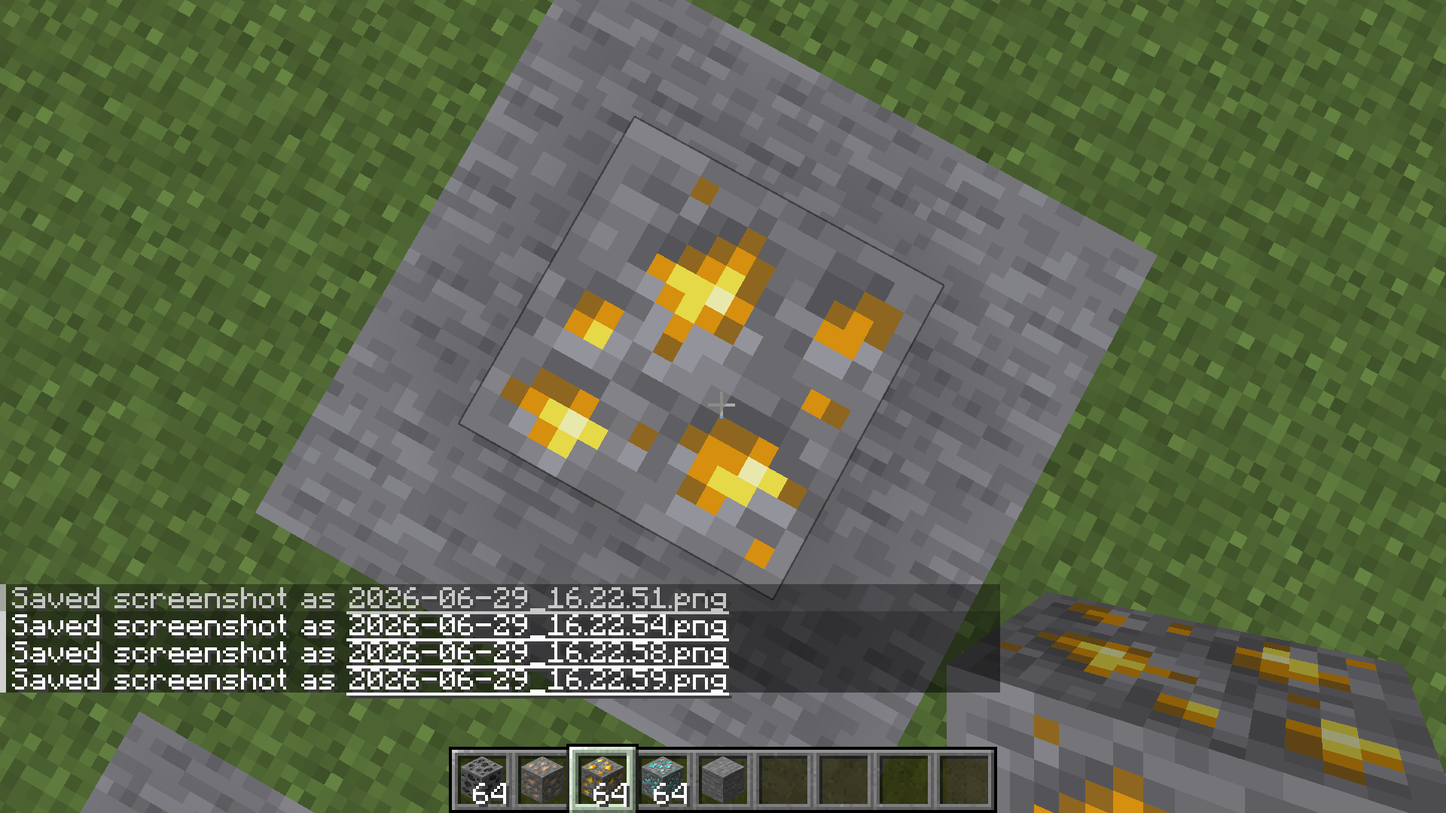gold ore: (464, 122, 947, 600)
